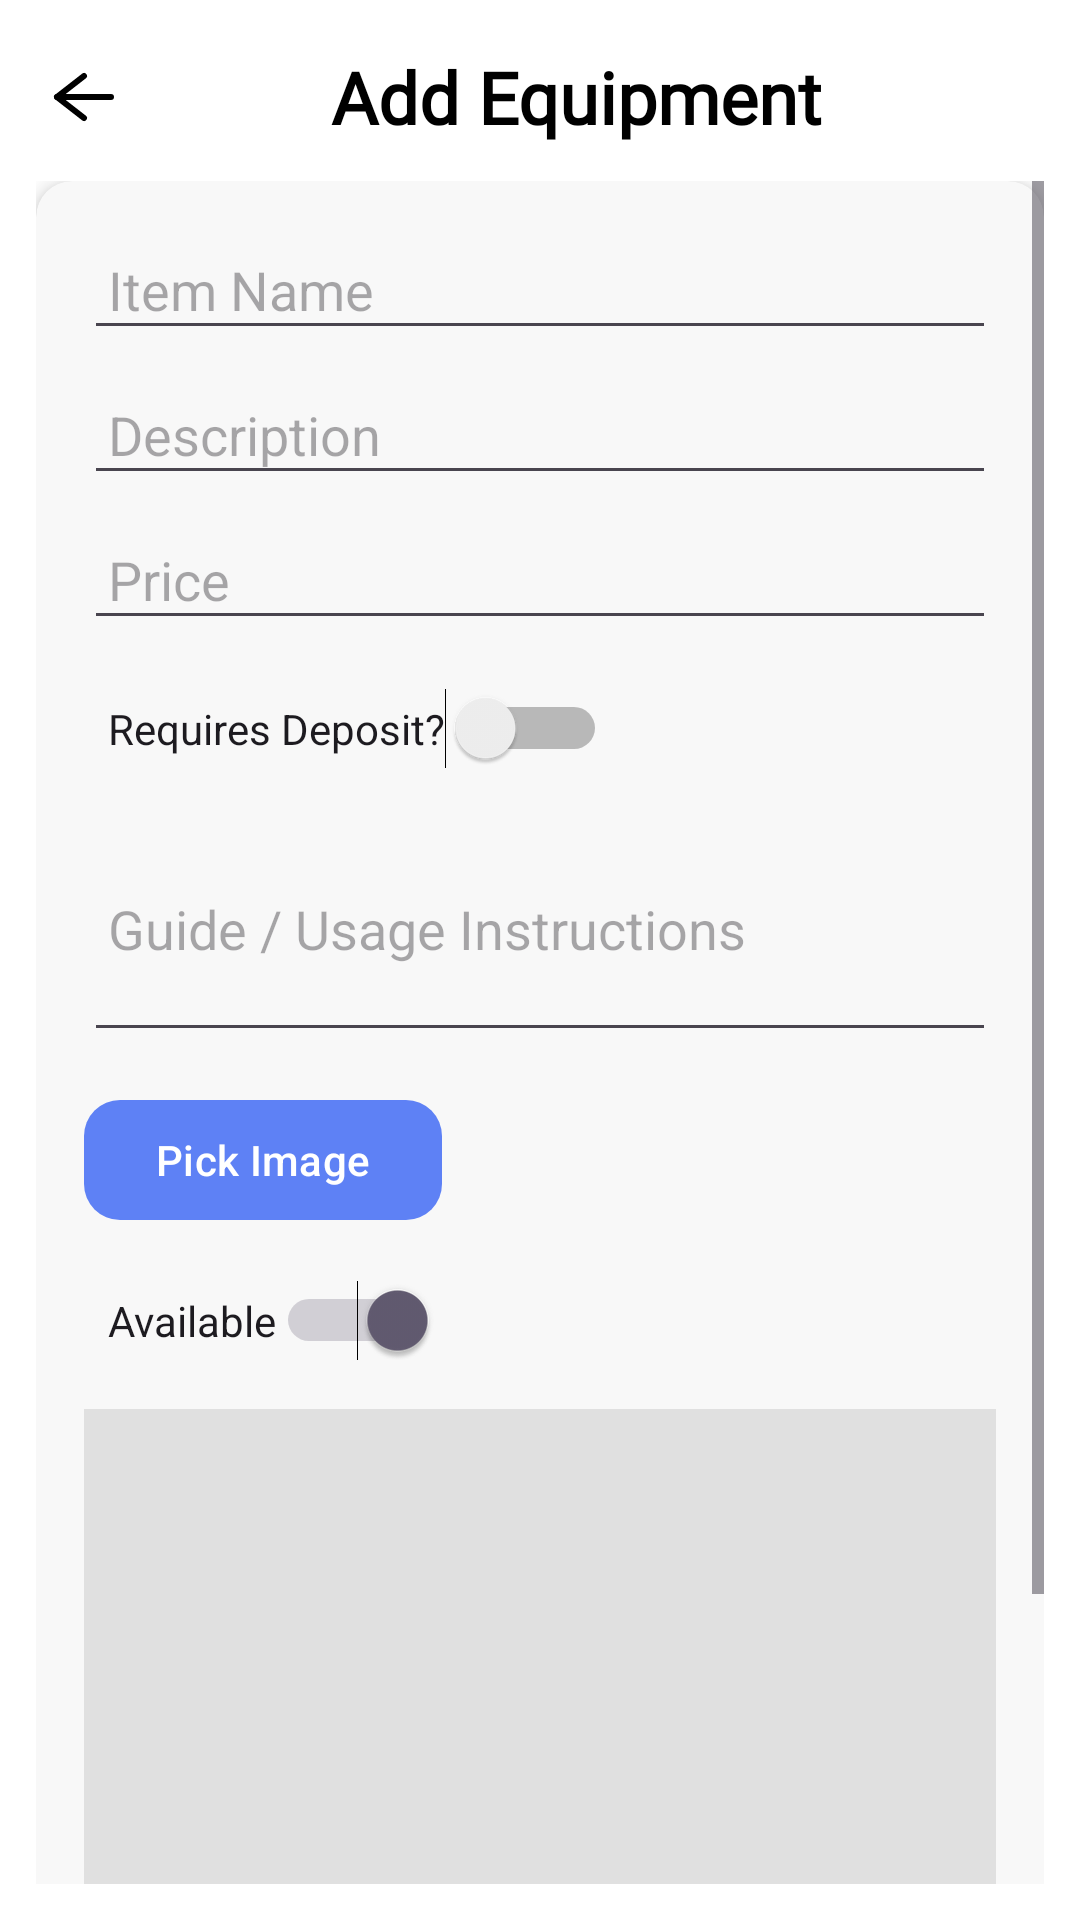

Point at icon controls on the screen. Image size 1080×1920, points as (x=x, y=y).
Back: (x=83, y=97)
